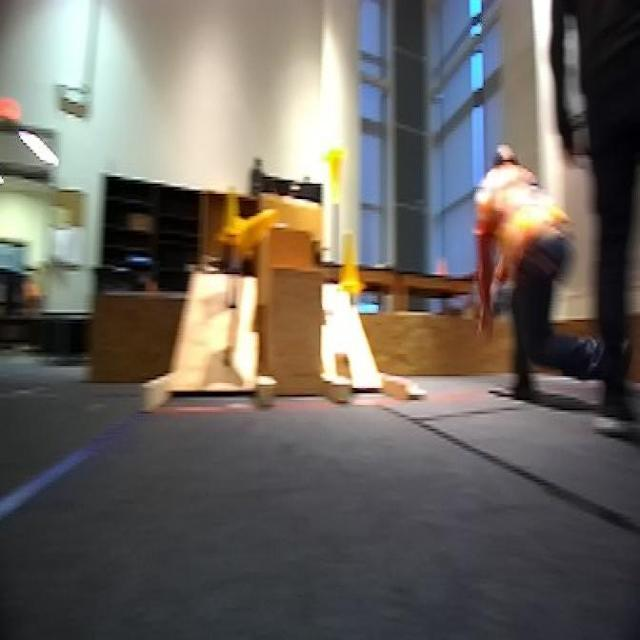frc_cone: (336, 230, 367, 303), (240, 208, 279, 260), (320, 146, 350, 211), (220, 189, 248, 247)
